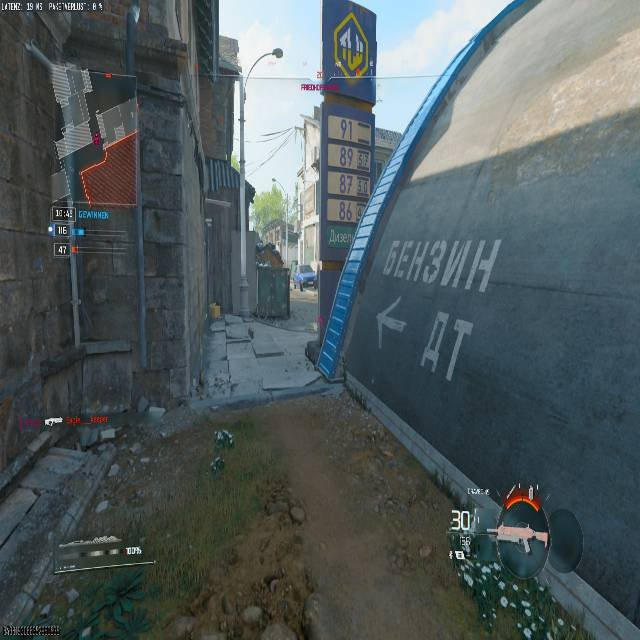player: (206, 427, 235, 476)
